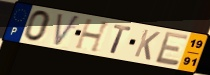0: (22, 10, 54, 43)
E: (153, 30, 190, 67)
H: (73, 17, 113, 54)
K: (132, 28, 162, 62)
T: (109, 24, 133, 56)
V: (53, 12, 82, 49)
